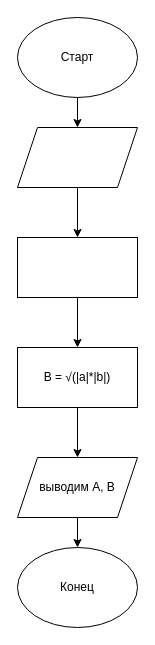
Image size: 155x645. Some labels were removed from this diagram. Each missing label, with the centre of its shape:
"A = (a^3+b^3)/2" goes at (77,267).
"Вводим a,b" goes at (77,157).
